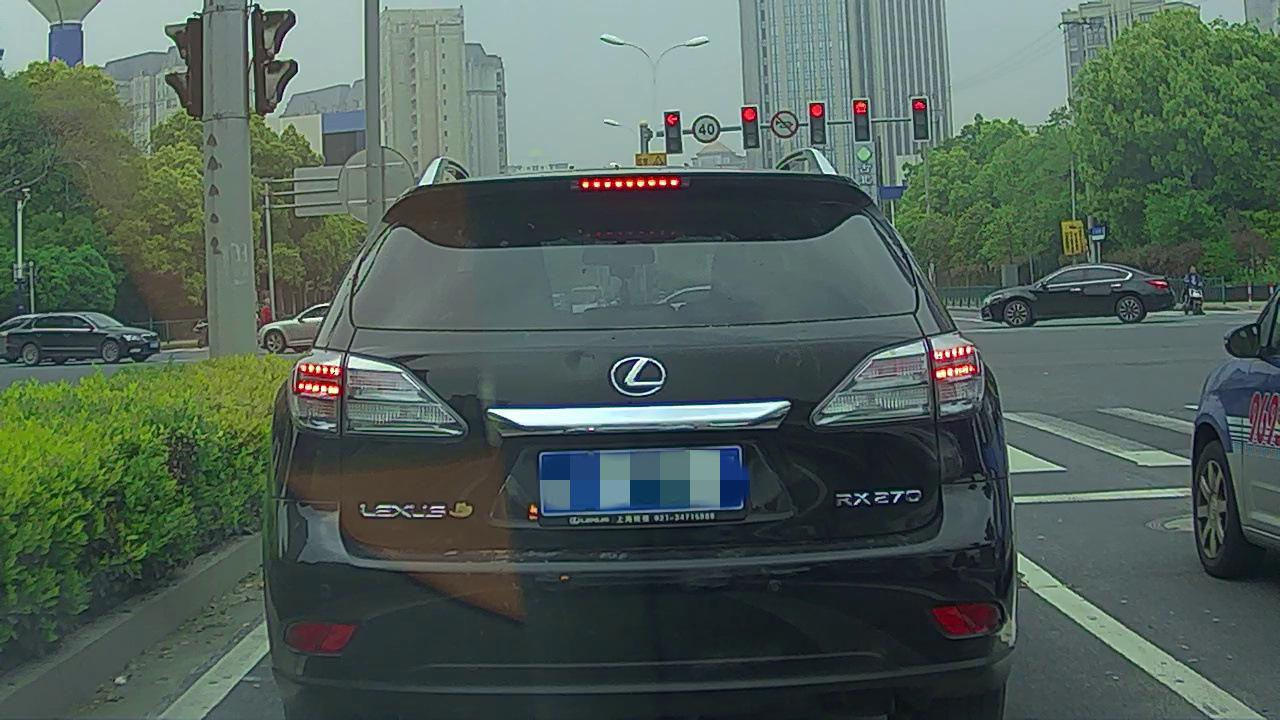traffic_light: (911, 95, 928, 141), (741, 104, 758, 148), (809, 103, 825, 146), (853, 99, 869, 142), (665, 109, 680, 152)
